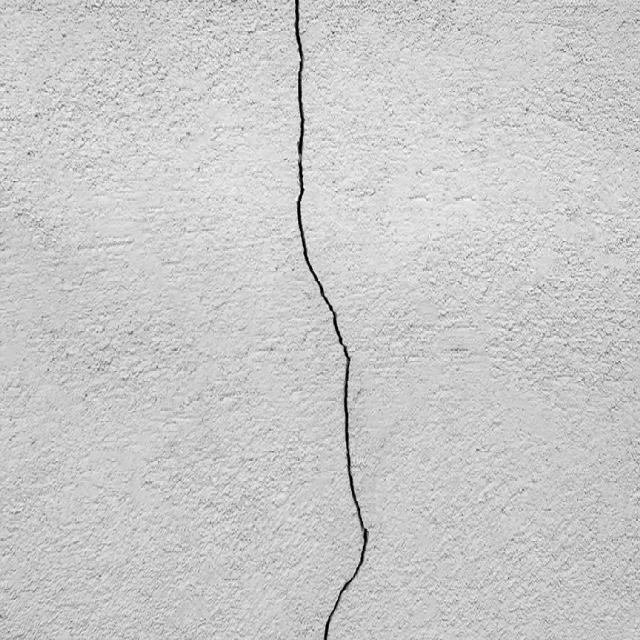Crack: (290, 0, 370, 639)
